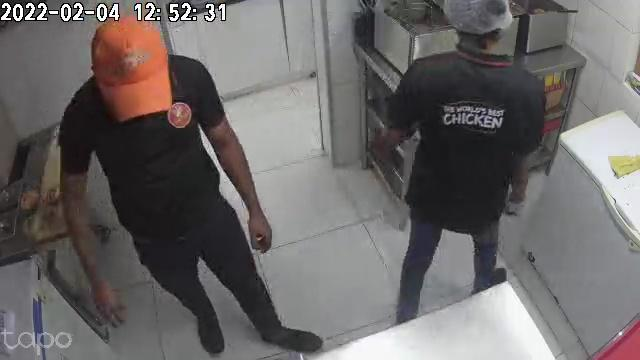no_gloves: (243, 200, 272, 253)
